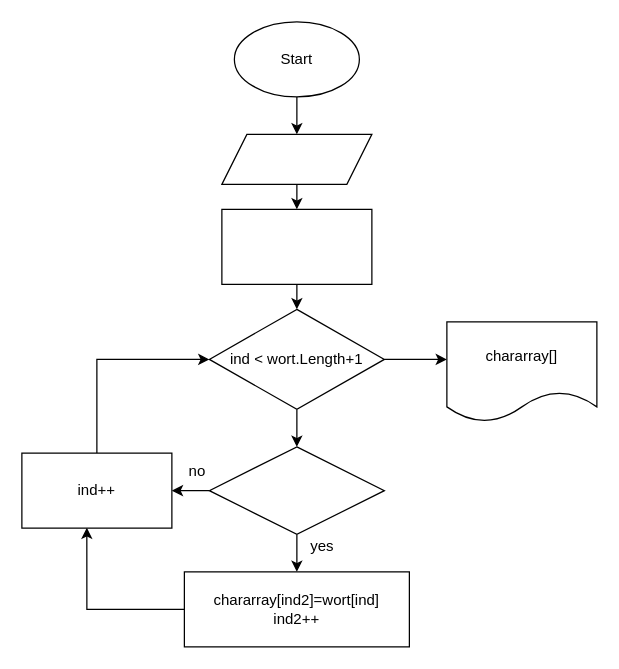
Image size: 619x669. Some labels were removed from this diagram. The shapes that lost their labels are listed below. From the top down, each one's centre as x and y in pixels, then its label:
At point (296, 158): "wort[] numb".
At point (296, 246): "chararray[] ind2=0 ind = 0".
At point (296, 490): "wort[ind]<=num".
